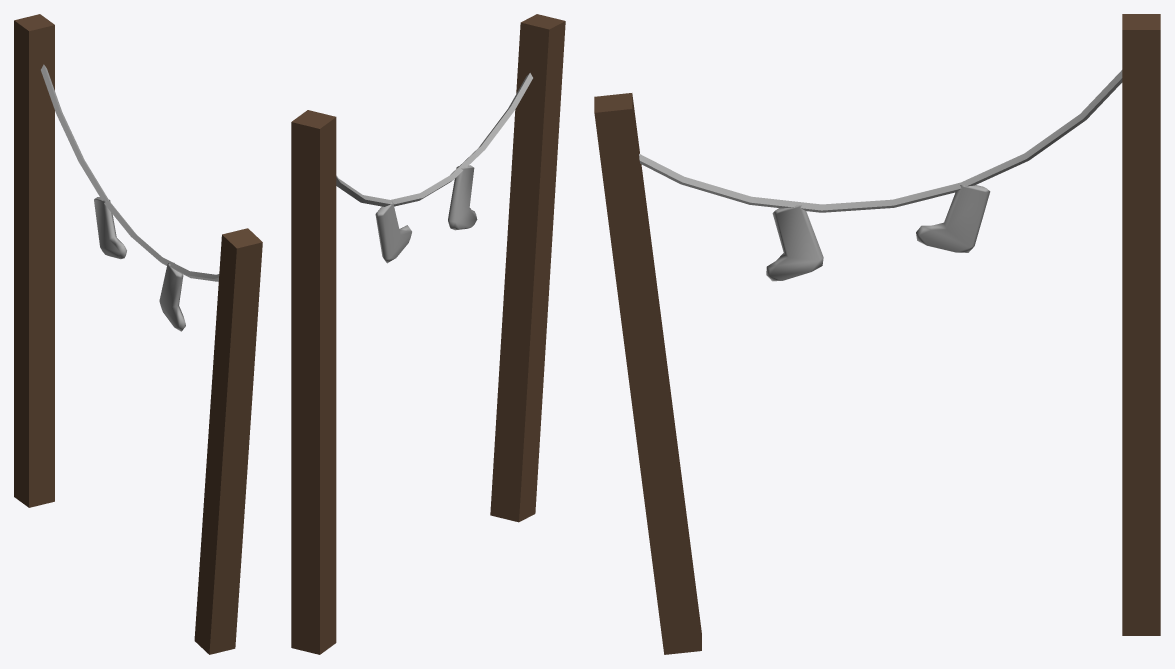
Rendered from SM_ClothLine.fbx.
3 views of the same model, side by side, from view 1: azimuth 30°, elevation 25°; view 2: azimuth 150°, elevation 25°; view 3: azimuth 270°, elevation 25° (orthographic). The views are drawn at different scales.
Parts seen in each view (by area): view 1: SM_ClothLine; view 2: SM_ClothLine; view 3: SM_ClothLine.
Part boxes in pixels (x1,y1,x2,y2): SM_ClothLine: (14,14,262,654); SM_ClothLine: (291,14,565,654); SM_ClothLine: (594,14,1160,654).
Bounding box in the file's own units: 8.31 × 150 × 123.
